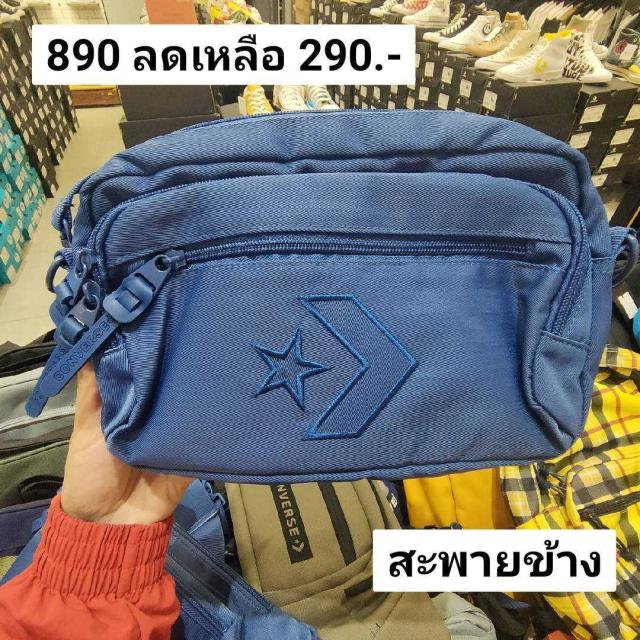Handbag: (13, 105, 608, 493)
